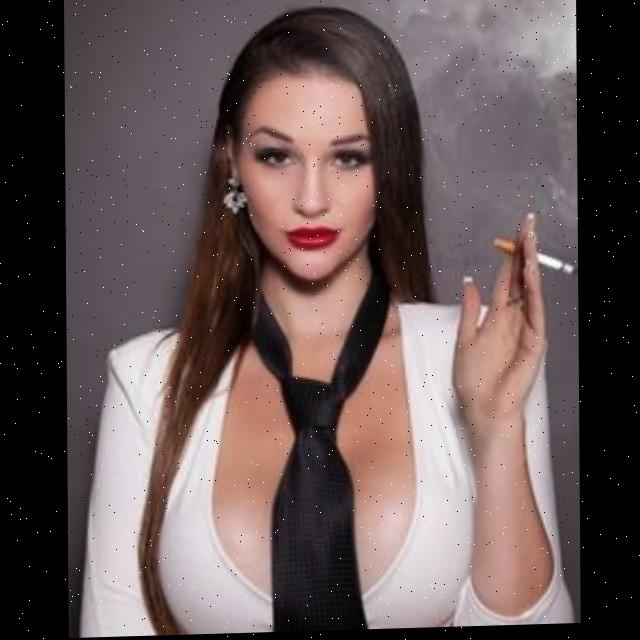cigarette: (492, 236, 575, 281)
